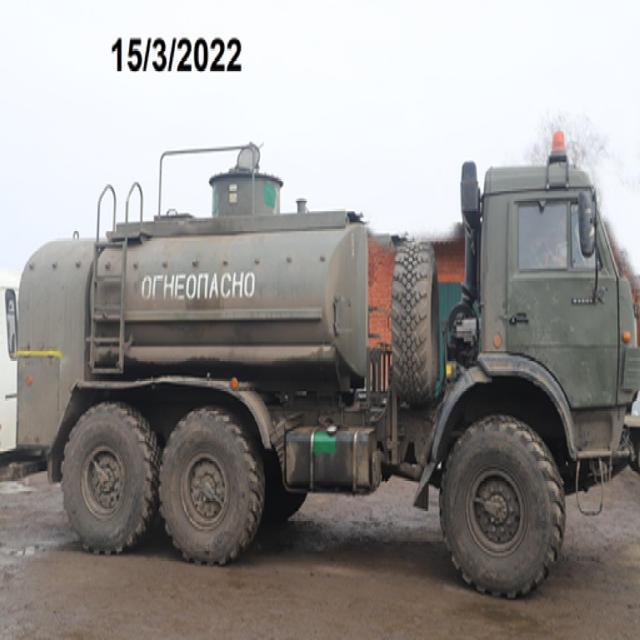TRUCK: (13, 153, 636, 598)
